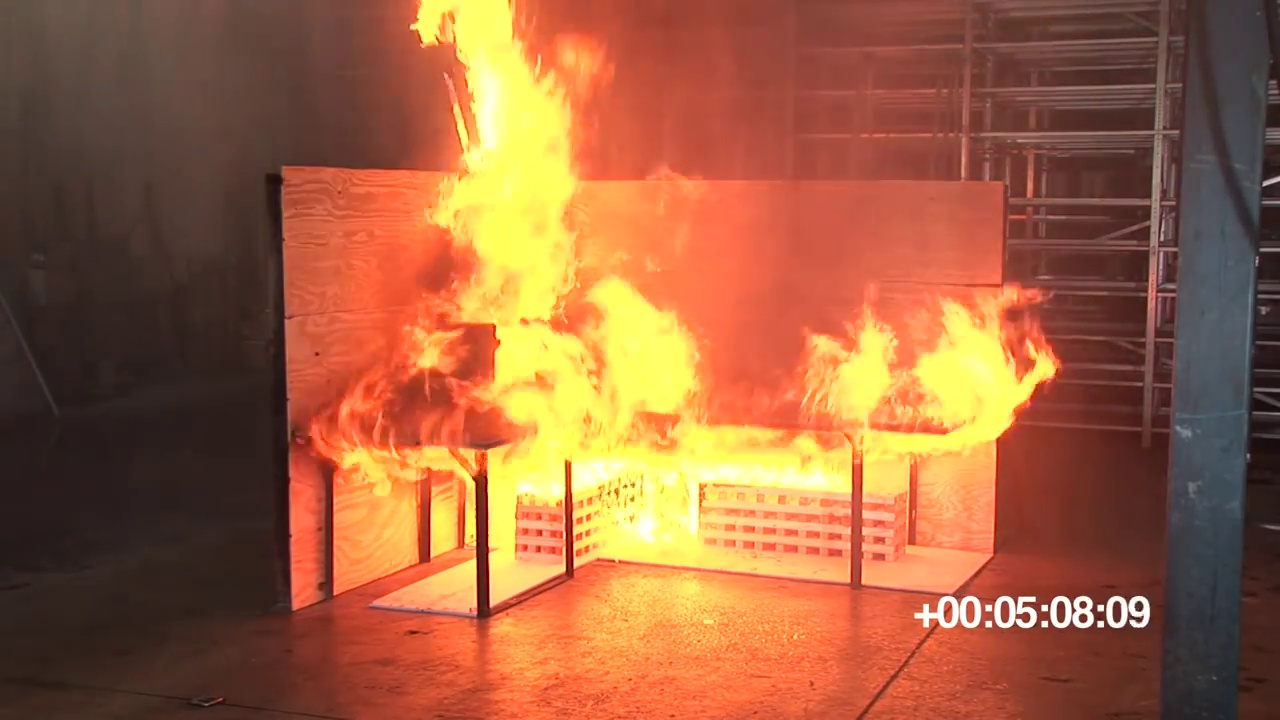fire: (312, 1, 702, 473), (792, 291, 1063, 453)
